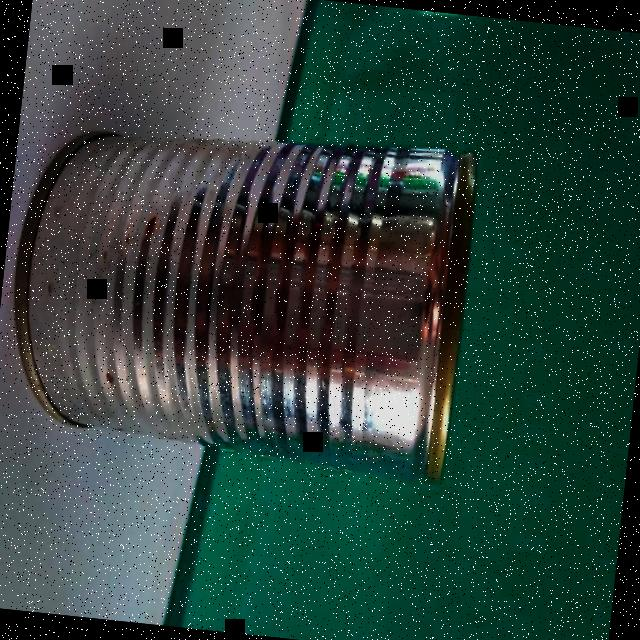can: (0, 102, 481, 484)
